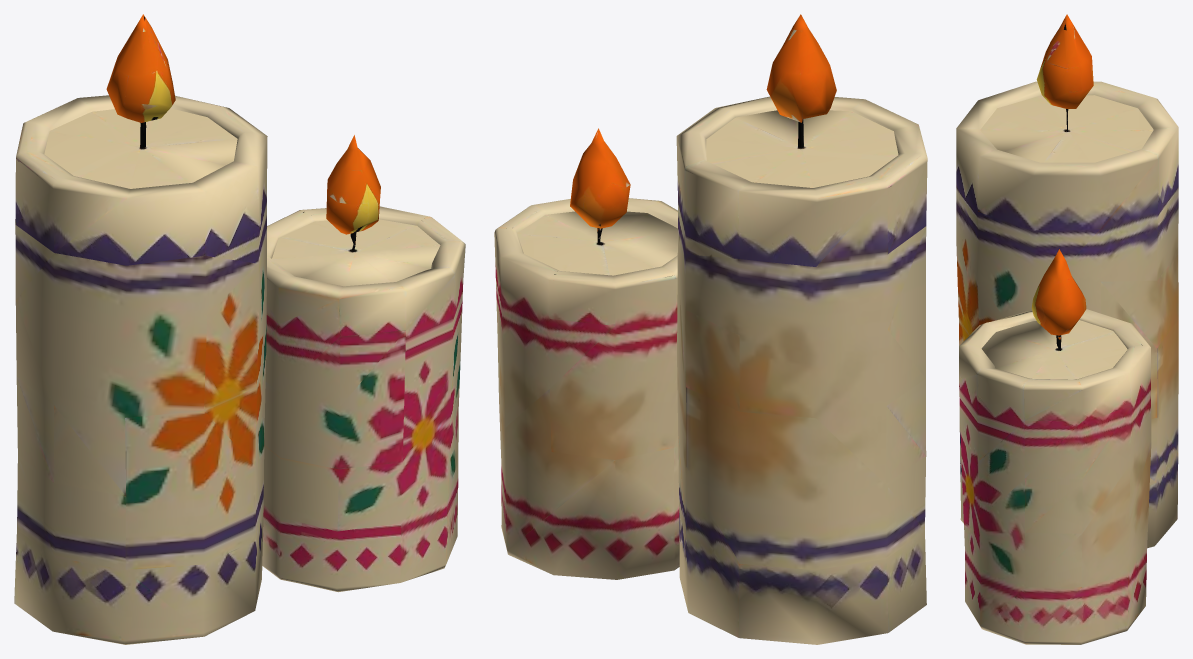
File: velas.glb
3 renders of one model, left to right at view 1: azimuth 30°, elevation 25°; view 2: azimuth 150°, elevation 25°; view 3: azimuth 270°, elevation 25°, orthographic. The views are drawn at different scales.
Visible parts, largest first — view 1: mesh_node; view 2: mesh_node; view 3: mesh_node.
Part boxes in pixels (<box>): mesh_node: <box>14,14,465,644</box>; mesh_node: <box>494,14,927,644</box>; mesh_node: <box>956,14,1178,644</box>.
Size of the model in its own units: 0.7324 by 1 by 0.3975.
1 material, 1 textured.
